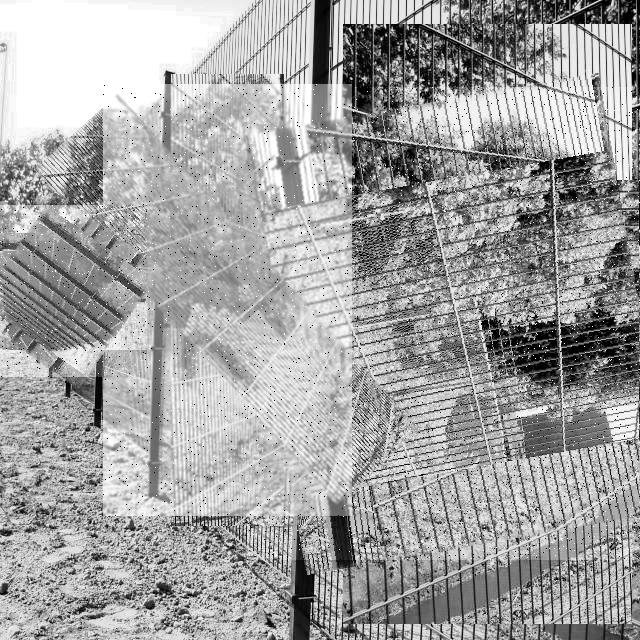fences: (247, 87, 640, 560), (103, 84, 352, 516), (0, 205, 147, 377)
